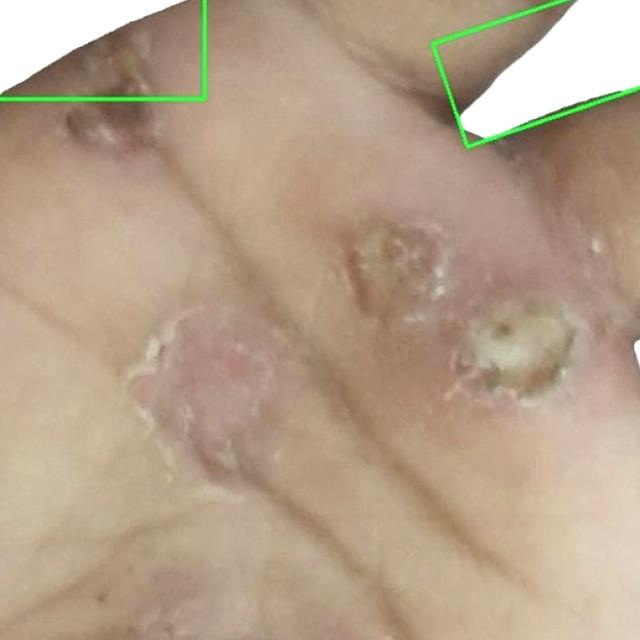Eczema: (427, 0, 639, 146), (0, 0, 203, 99)
